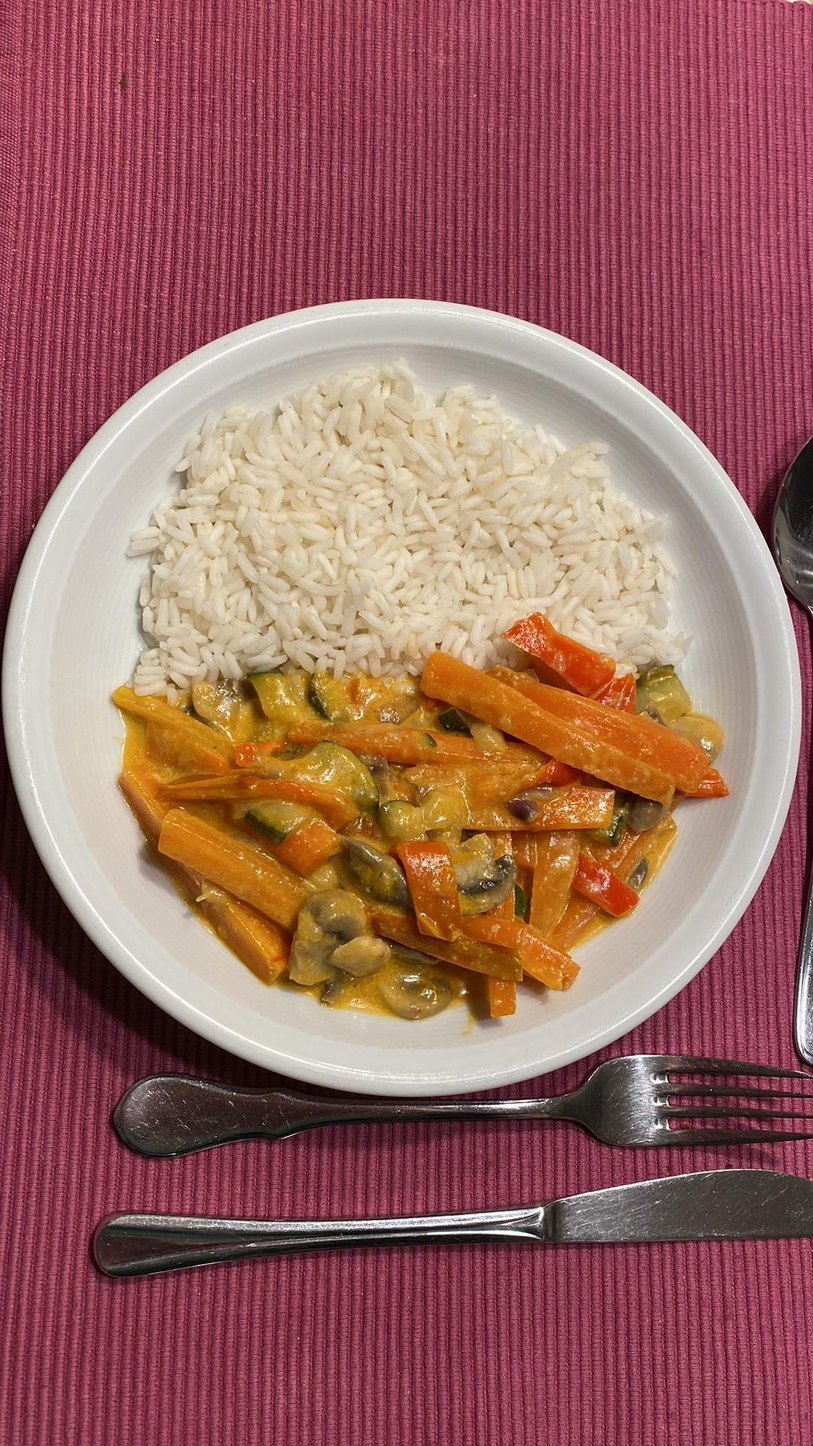bell pepper: (506, 609, 615, 692), (401, 842, 473, 947), (572, 854, 661, 921), (513, 761, 575, 792)
carrot: (428, 641, 709, 802), (125, 771, 291, 987), (154, 811, 311, 915), (297, 714, 559, 767), (463, 909, 601, 983), (462, 790, 626, 832)
mushroom: (282, 888, 394, 988), (338, 834, 408, 906), (458, 847, 521, 916), (376, 972, 459, 1015)
onion: (506, 796, 539, 823)
